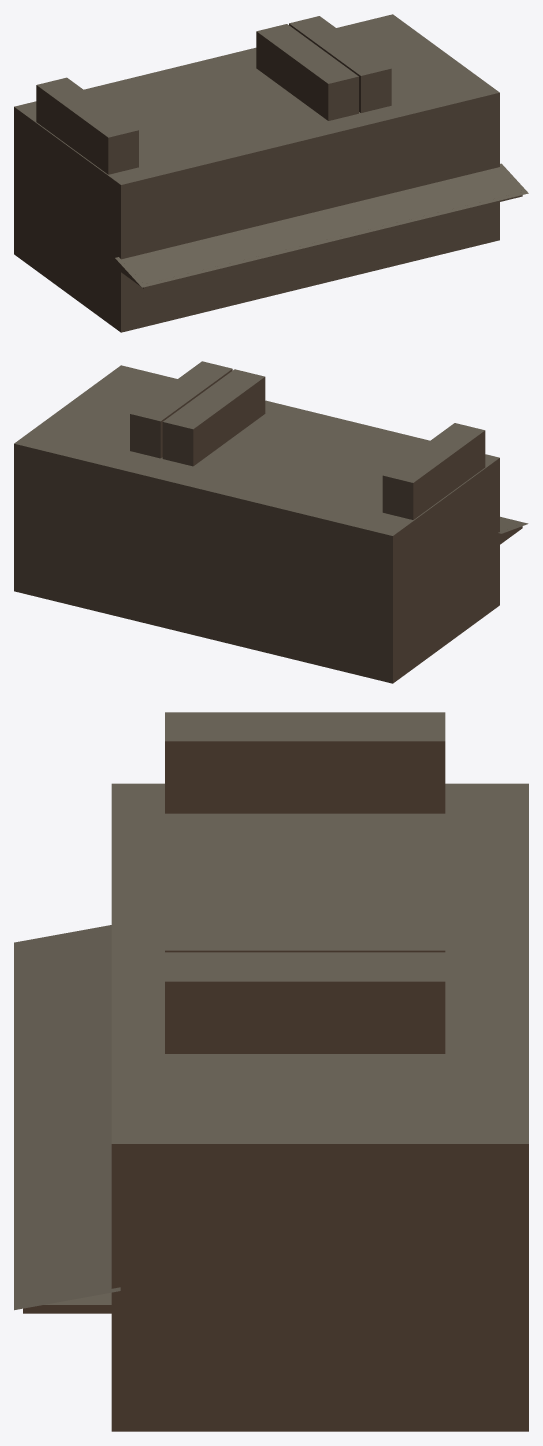
The model's file is rw-mill-row.far-facades-v3.lod2.glb.
3 views of the same model, one above another, from view 1: azimuth 30°, elevation 25°; view 2: azimuth 150°, elevation 25°; view 3: azimuth 270°, elevation 25° (orthographic). The views are drawn at different scales.
Visible parts, largest first — view 1: rw-mill-row; view 2: rw-mill-row; view 3: rw-mill-row.
Boxes of the visible parts, x1,y1,x2,y2 form: rw-mill-row: (14, 14, 528, 332); rw-mill-row: (14, 361, 528, 683); rw-mill-row: (14, 712, 528, 1431).
Size of the model in its own units: 19.6 by 8.95 by 11.6.
